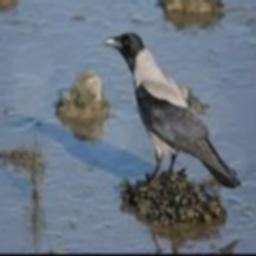Crow: (100, 31, 241, 190)
